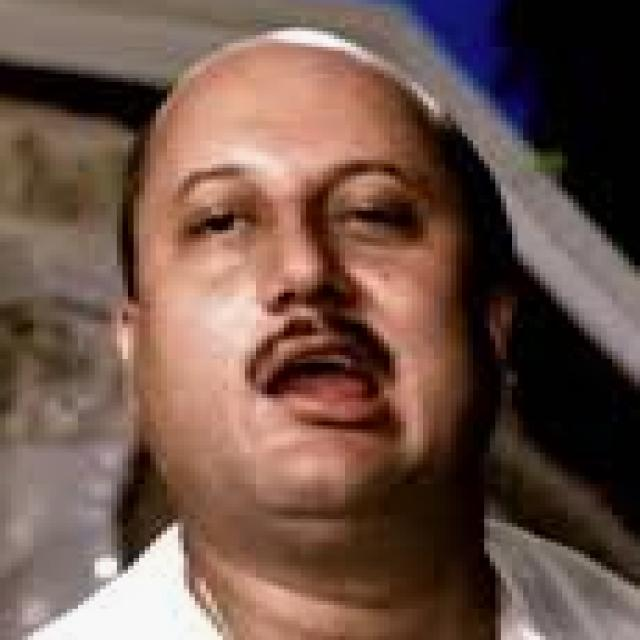stroke_face: (118, 52, 502, 569)
